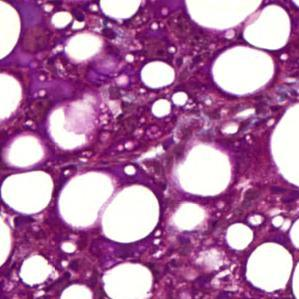steatosis: (212, 43, 277, 94), (6, 133, 49, 168), (140, 56, 179, 93)
